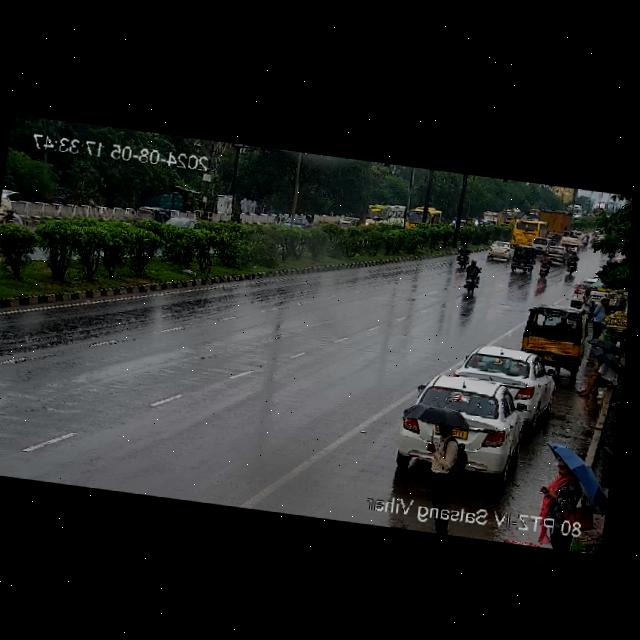bus: (509, 214, 546, 249), (405, 203, 441, 234), (367, 200, 408, 227), (500, 207, 521, 228)
car: (398, 373, 522, 480), (453, 343, 558, 412), (515, 304, 586, 369), (506, 243, 537, 276), (130, 203, 170, 228), (589, 294, 610, 341), (482, 237, 511, 262), (566, 275, 585, 305), (542, 244, 570, 261), (283, 214, 309, 232), (579, 287, 593, 310), (338, 215, 358, 229), (534, 236, 548, 254)
motorcycle: (455, 260, 484, 297), (531, 254, 553, 280), (561, 250, 581, 274), (457, 242, 472, 268), (0, 207, 20, 225), (581, 232, 591, 248), (271, 213, 279, 227)
person: (416, 417, 469, 502), (540, 456, 592, 526), (574, 359, 619, 402)
truck: (541, 208, 572, 240), (561, 228, 584, 249), (481, 210, 501, 229)
